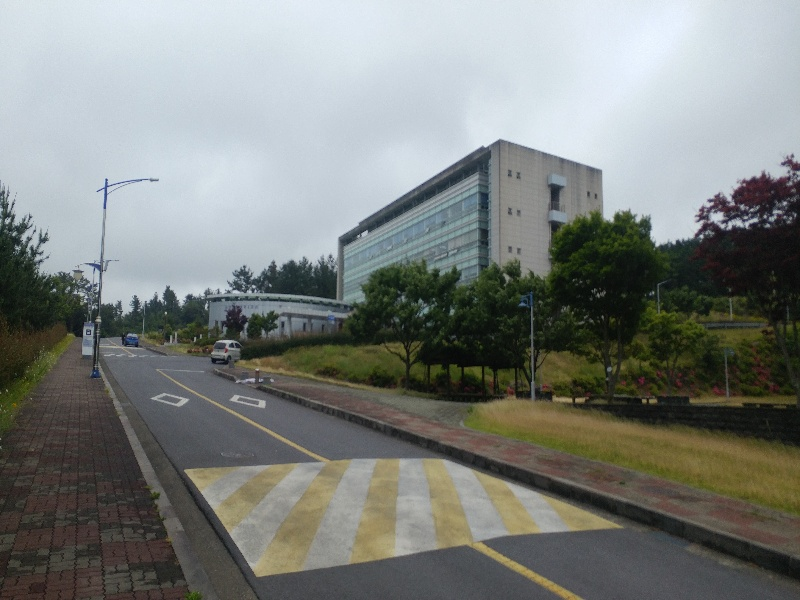College of Marine Science: (319, 144, 615, 300), (203, 286, 332, 334)
